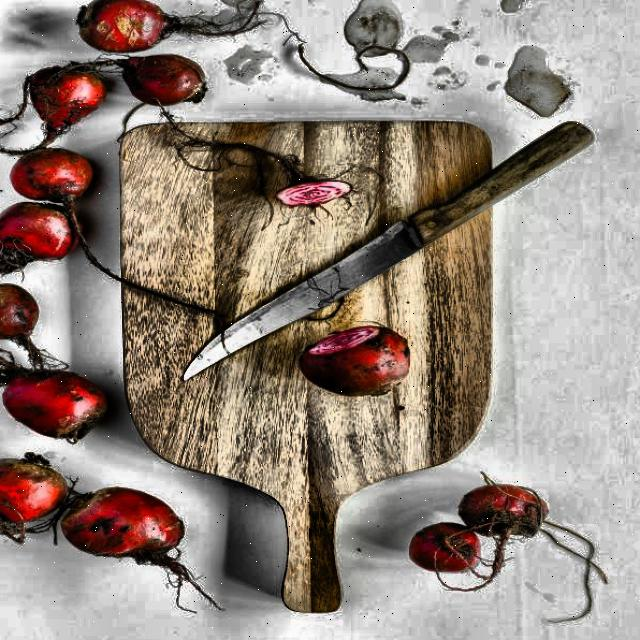knife: (161, 120, 604, 380)
